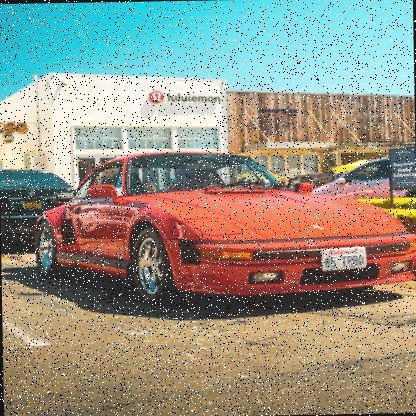License-Plate: (320, 245, 369, 271), (19, 198, 46, 211)
